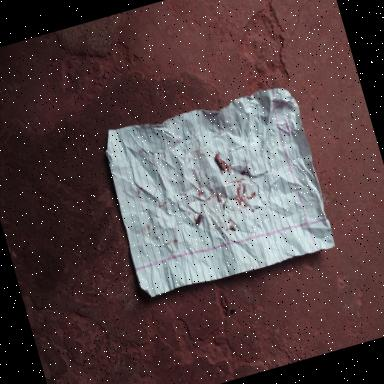pbw: (214, 151, 228, 174), (194, 212, 206, 225), (216, 192, 222, 202)
